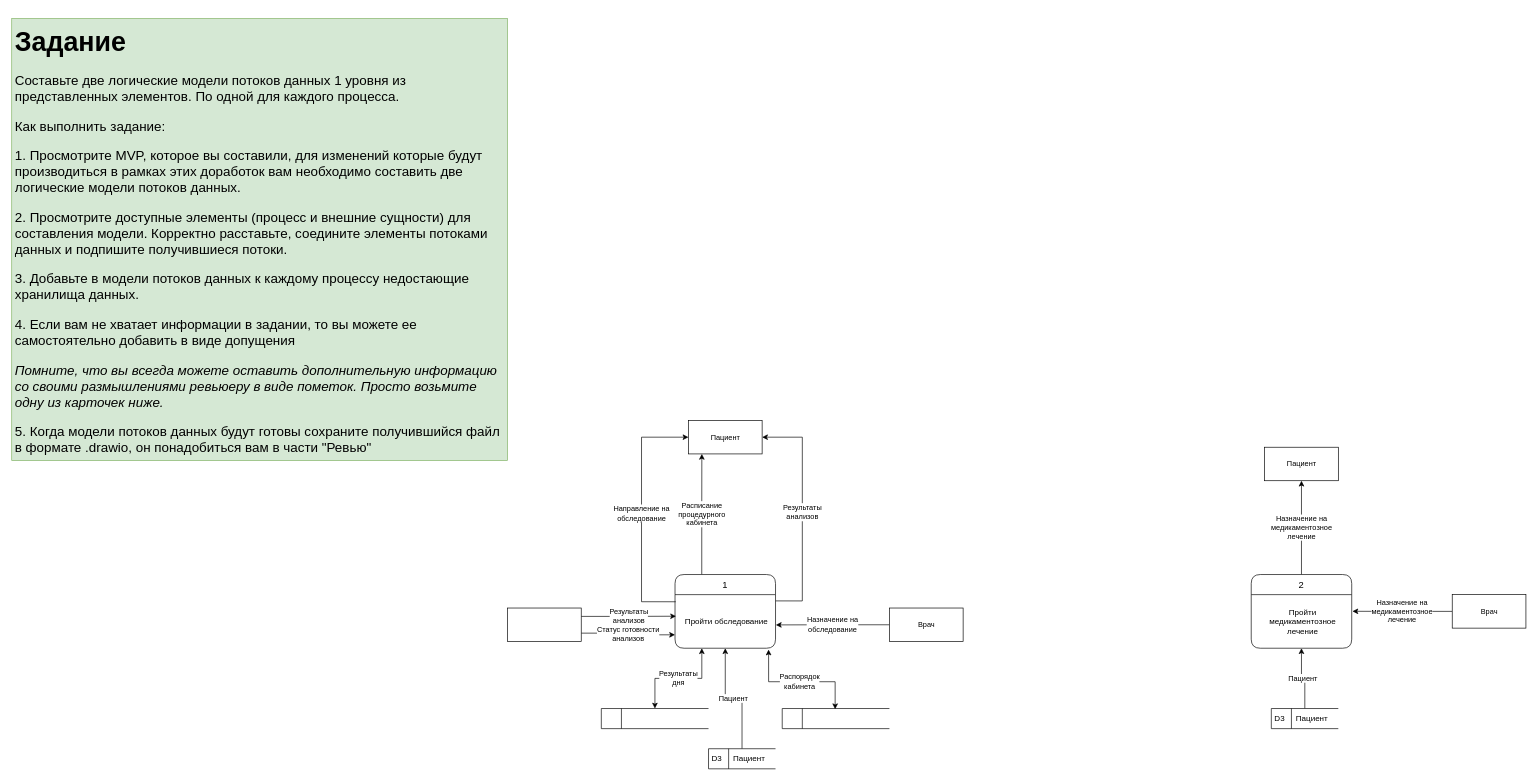
This 1538x781 diagram has some shape labels left out. The shapes that lost their labels are listed below. From the top down, each one's centre as x and y in pixels, then its label:
At point 544,624: "Лаборатория".
At point 655,718: "D2 Результаты анализов".
At point 835,718: "D1 Распорядок кабинета".
